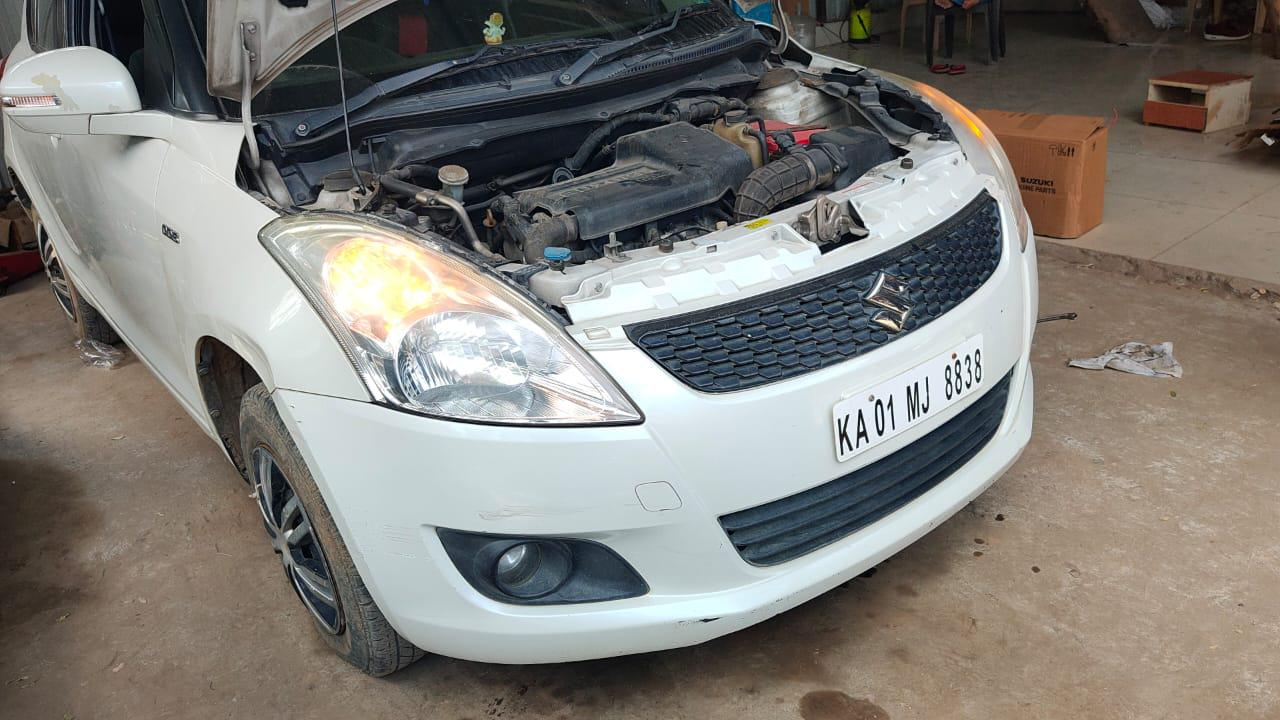front-bumper-dent: (343, 405, 746, 671)
